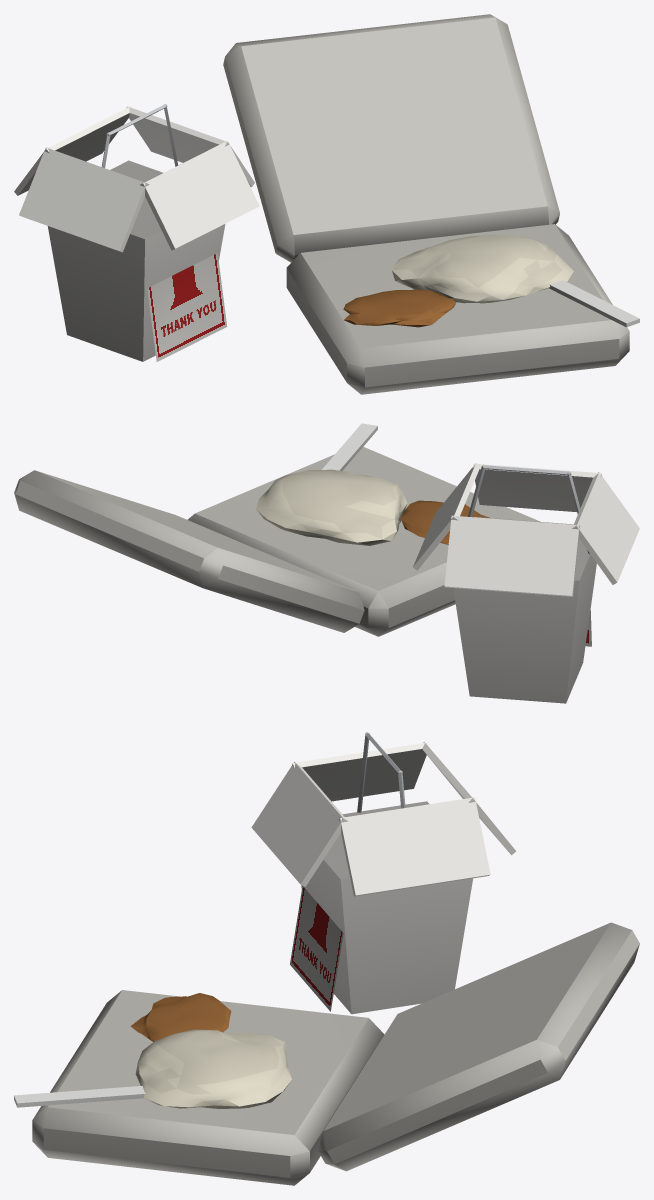
Rendered from takeout.glb.
The picture shows the model from 3 angles, top to bottom: view 1: azimuth 30°, elevation 25°; view 2: azimuth 150°, elevation 25°; view 3: azimuth 270°, elevation 25°; orthographic projection. The views are drawn at different scales.
Parts seen in each view (by area): view 1: body, panels; view 2: body; view 3: body, panels.
Part boxes in pixels (bbox=[...]): body: bbox=[14, 14, 639, 394]; panels: bbox=[147, 253, 227, 361]; body: bbox=[14, 423, 639, 703]; body: bbox=[14, 732, 639, 1185]; panels: bbox=[290, 886, 343, 1011].
Bounding box in the file's own units: 0.4336 × 0.1617 × 0.3923.
Materials: 7 (1 with a texture image).
